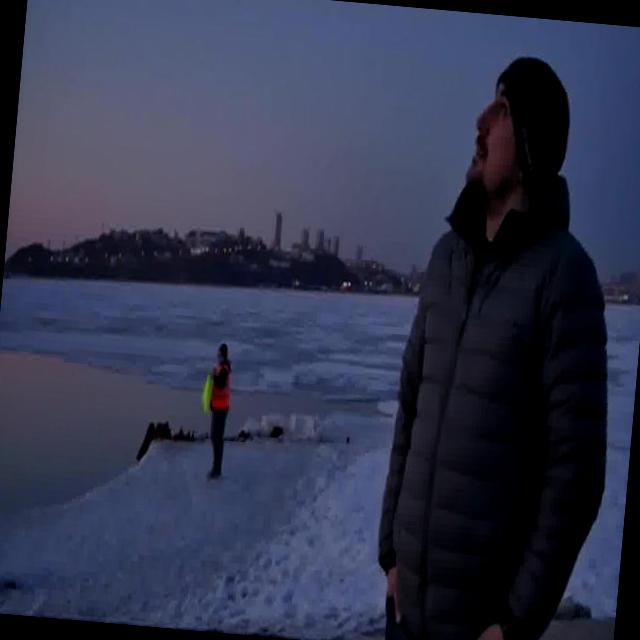vest: (208, 362, 232, 414), (201, 372, 214, 412)
